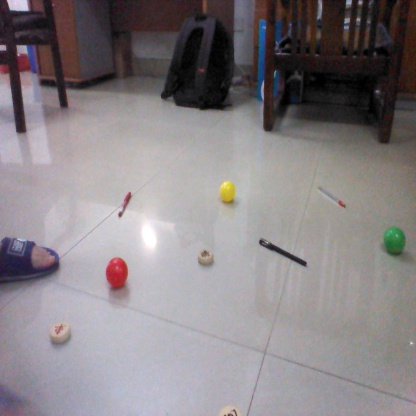ball: (100, 255, 133, 287), (380, 226, 408, 251), (217, 182, 241, 202)
chess: (49, 321, 74, 342), (213, 402, 242, 416), (197, 248, 217, 264)
pen: (258, 239, 309, 266), (317, 184, 347, 205), (118, 193, 131, 217)
